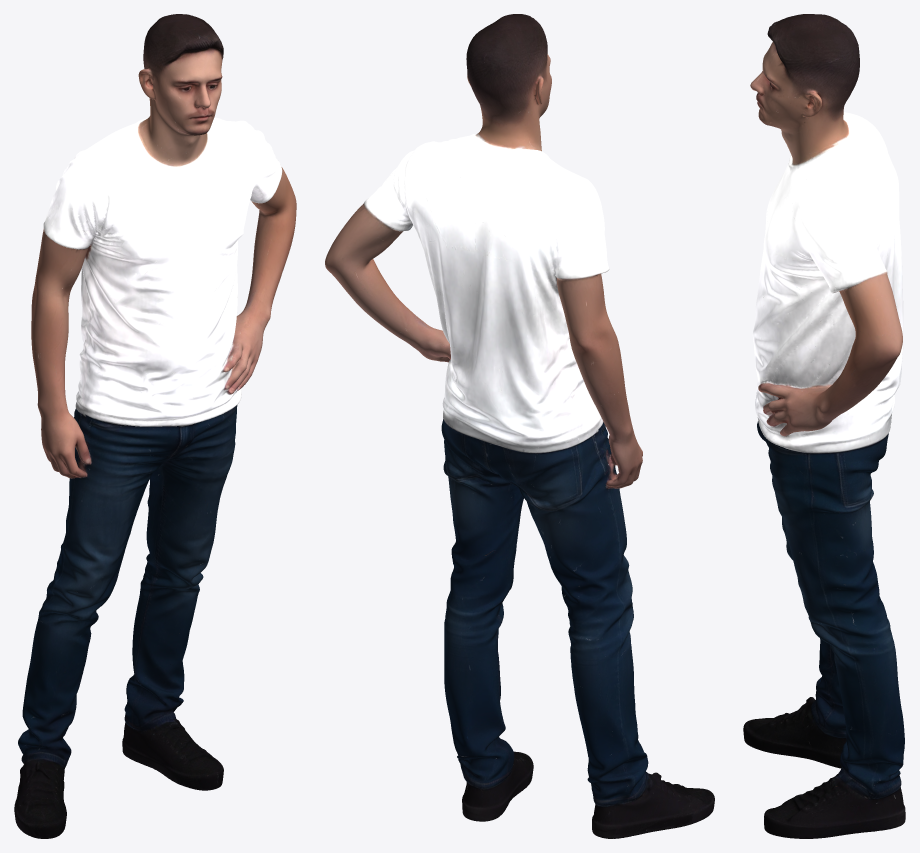
File: casual-confidence-41-a69fcf4d.glb
3 renders of one model, left to right at view 1: azimuth 30°, elevation 25°; view 2: azimuth 150°, elevation 25°; view 3: azimuth 270°, elevation 25°, orthographic. The views are drawn at different scales.
Visible parts, largest first — view 1: mesh_0; view 2: mesh_0; view 3: mesh_0.
Boxes of the visible parts, x1,y1,x2,y2 form: mesh_0: (14,14,296,838); mesh_0: (325,14,714,838); mesh_0: (743,14,905,838).
Bounding box in the file's own units: 0.85 × 1.9 × 0.3459.
1 material, 1 textured.
